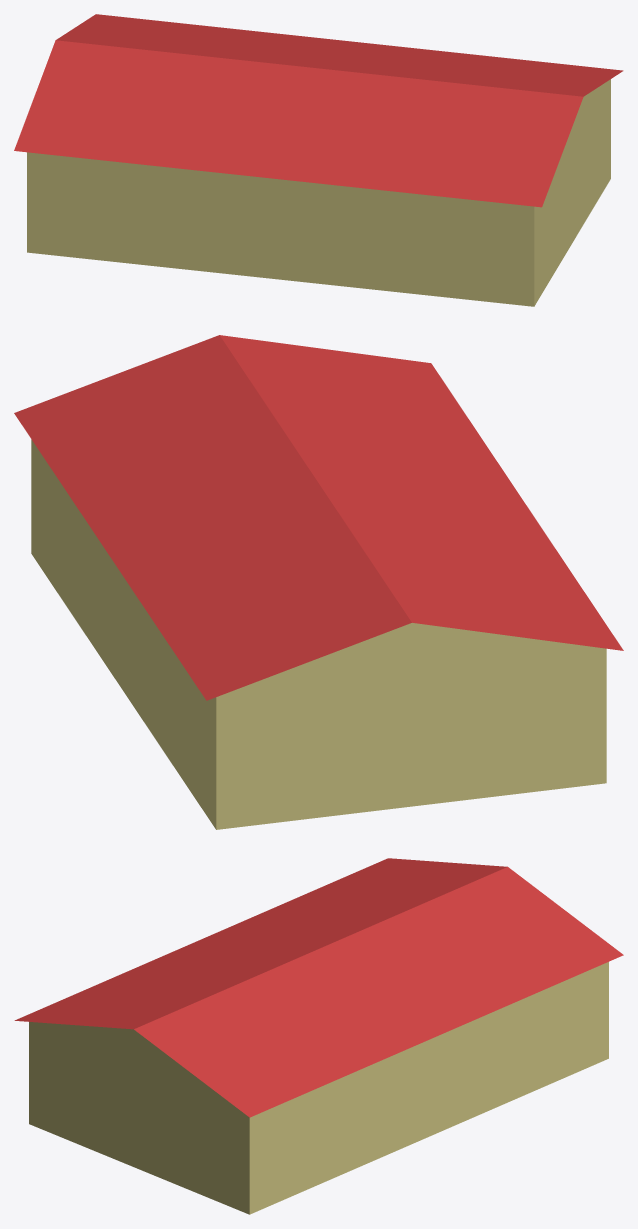
The picture shows the model from 3 angles, top to bottom: view 1: azimuth 30°, elevation 25°; view 2: azimuth 150°, elevation 25°; view 3: azimuth 270°, elevation 25°; orthographic projection. The views are drawn at different scales.
Size of the model in its own units: 43.55 by 43.26 by 11.27.
